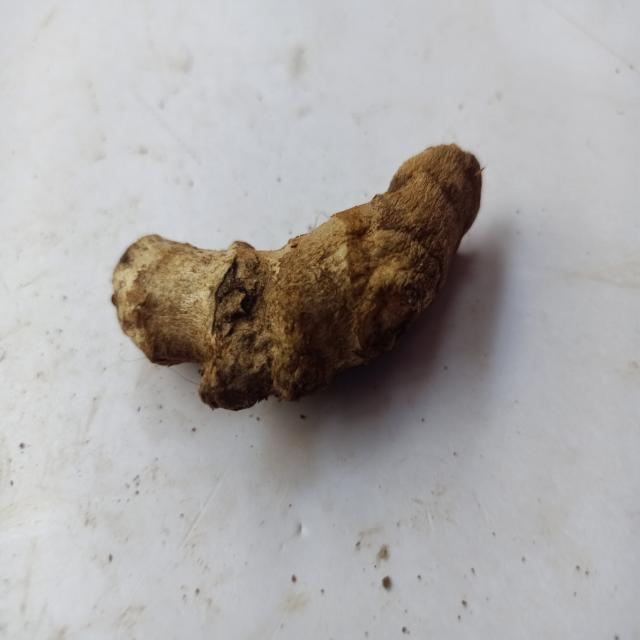Ginger: (111, 143, 482, 410)
